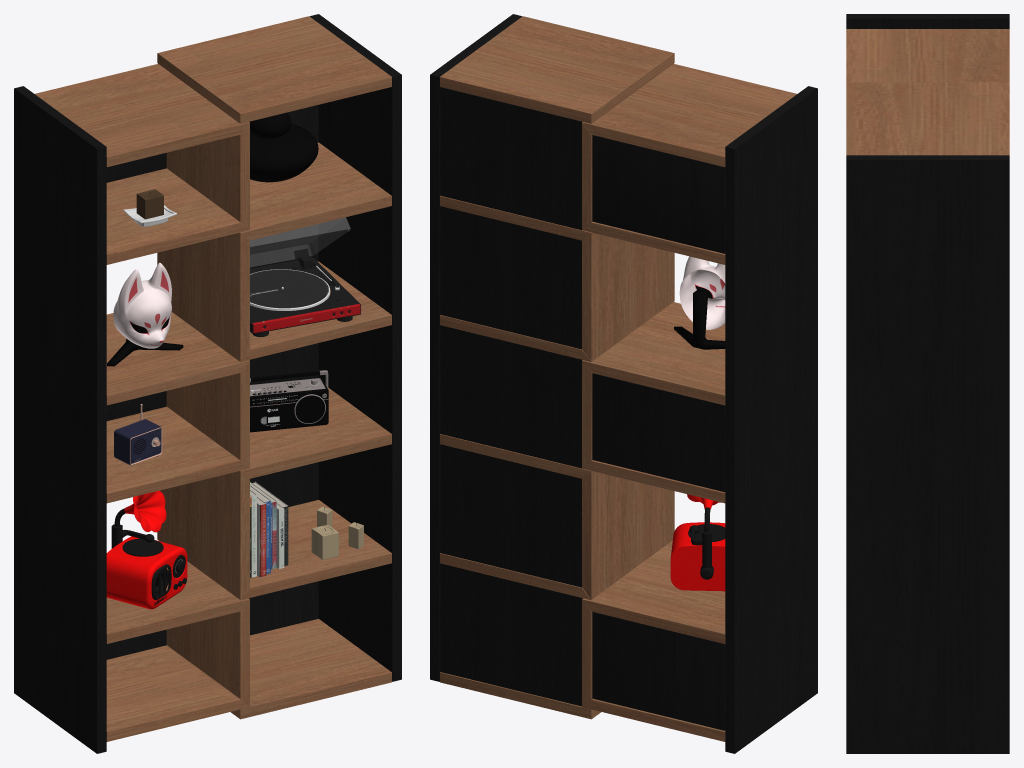
Rendered from bookcase.gltf.
3 views of the same model, side by side, from view 1: azimuth 30°, elevation 25°; view 2: azimuth 150°, elevation 25°; view 3: azimuth 270°, elevation 25° (orthographic).
Visible parts, largest first — view 1: BookCase, Turntable, RecordPlayer, BoomBox, Vase, KitsuneMask, Books, Radio, Candles, Candle; view 2: BookCase, RecordPlayer, KitsuneMask, MaskStand; view 3: BookCase.
Part boxes in pixels (box(x1,y1,x2,y2)): BookCase: box(14, 14, 401, 753); Turntable: box(250, 217, 360, 336); RecordPlayer: box(106, 490, 187, 609); BoomBox: box(250, 370, 328, 432); Vase: box(249, 112, 318, 182); KitsuneMask: box(113, 262, 171, 348); Books: box(250, 481, 288, 577); Radio: box(114, 404, 162, 465); Candles: box(311, 506, 363, 559); Candle: box(123, 189, 176, 226); BookCase: box(430, 14, 817, 753); RecordPlayer: box(670, 494, 725, 591); KitsuneMask: box(679, 256, 725, 329); MaskStand: box(674, 290, 725, 349); BookCase: box(846, 14, 1009, 753).
Size of the model in its own units: 1.06 by 2.01 by 0.501.
Materials: 19 (9 with a texture image).
